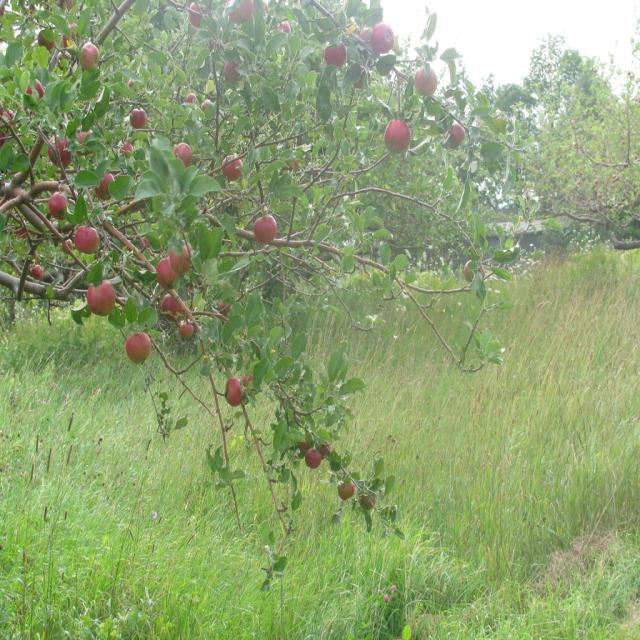Healty Apple: (88, 279, 116, 317), (47, 133, 74, 170), (126, 331, 152, 366), (385, 118, 411, 153), (74, 225, 100, 254), (372, 22, 394, 55), (170, 242, 192, 274), (224, 54, 246, 86), (414, 63, 436, 95), (322, 42, 348, 69), (254, 216, 278, 244), (222, 153, 245, 182), (225, 0, 254, 22), (80, 40, 101, 70), (49, 192, 69, 222), (77, 126, 97, 156), (185, 1, 208, 27), (162, 295, 184, 322), (158, 259, 177, 289), (224, 377, 242, 408), (92, 174, 114, 198), (64, 23, 82, 51), (465, 259, 484, 284), (448, 124, 464, 152), (174, 143, 192, 166), (24, 80, 45, 99), (38, 31, 56, 52), (338, 479, 356, 499), (356, 65, 372, 87), (305, 448, 322, 468), (130, 108, 146, 129), (178, 319, 197, 336), (214, 301, 233, 318), (2, 110, 19, 128), (358, 492, 375, 510), (55, 49, 71, 68), (297, 430, 313, 449), (239, 373, 254, 391), (359, 29, 371, 48), (120, 142, 134, 157), (317, 441, 330, 456), (283, 160, 302, 170), (32, 265, 44, 280), (62, 237, 74, 252), (59, 0, 72, 12), (18, 219, 26, 238), (203, 98, 211, 115), (140, 237, 150, 249), (278, 22, 292, 30), (186, 93, 198, 102), (0, 126, 5, 147), (262, 0, 269, 12), (129, 78, 134, 87), (0, 101, 2, 119)
